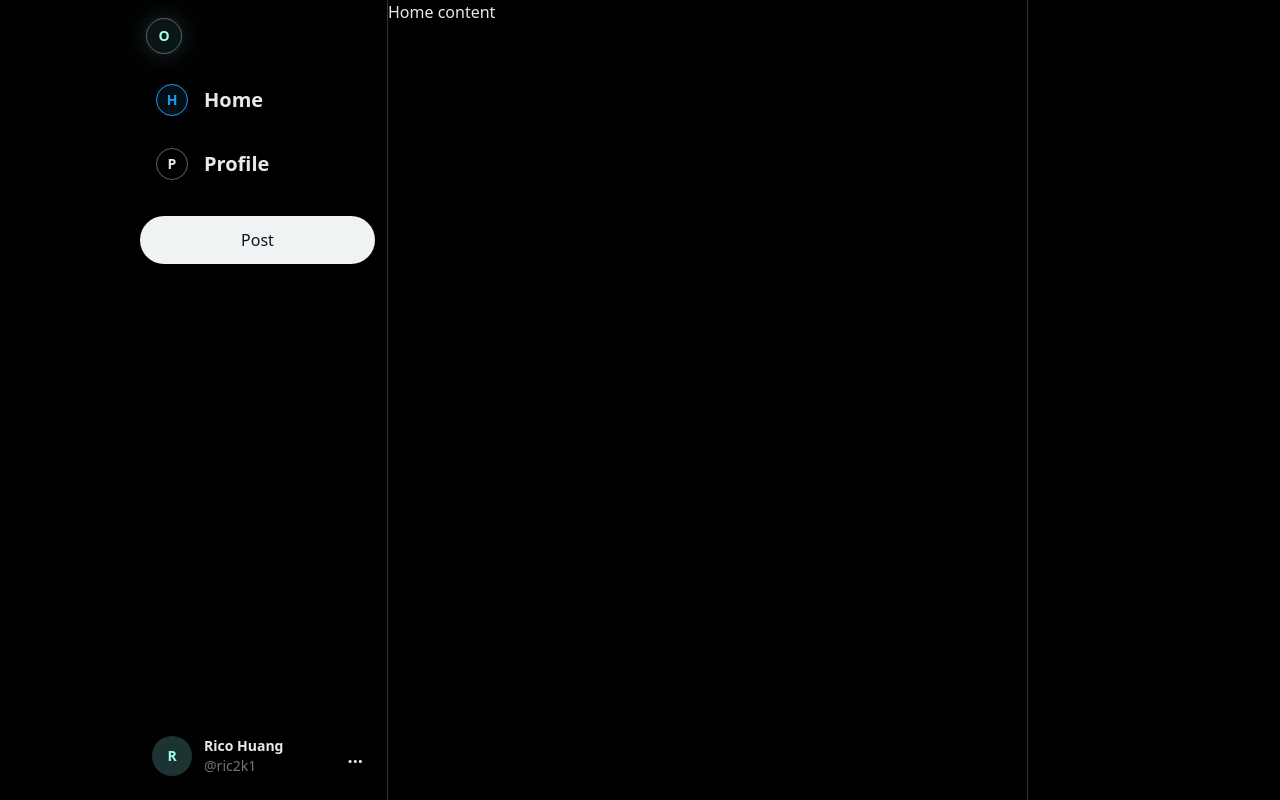
Test: Phase 4 post composer UI › loads a selected draft into the modal composer
The image size is (1280, 800).
Click the button "Post" at [258, 240], box x1=140 y1=216 x2=375 y2=264
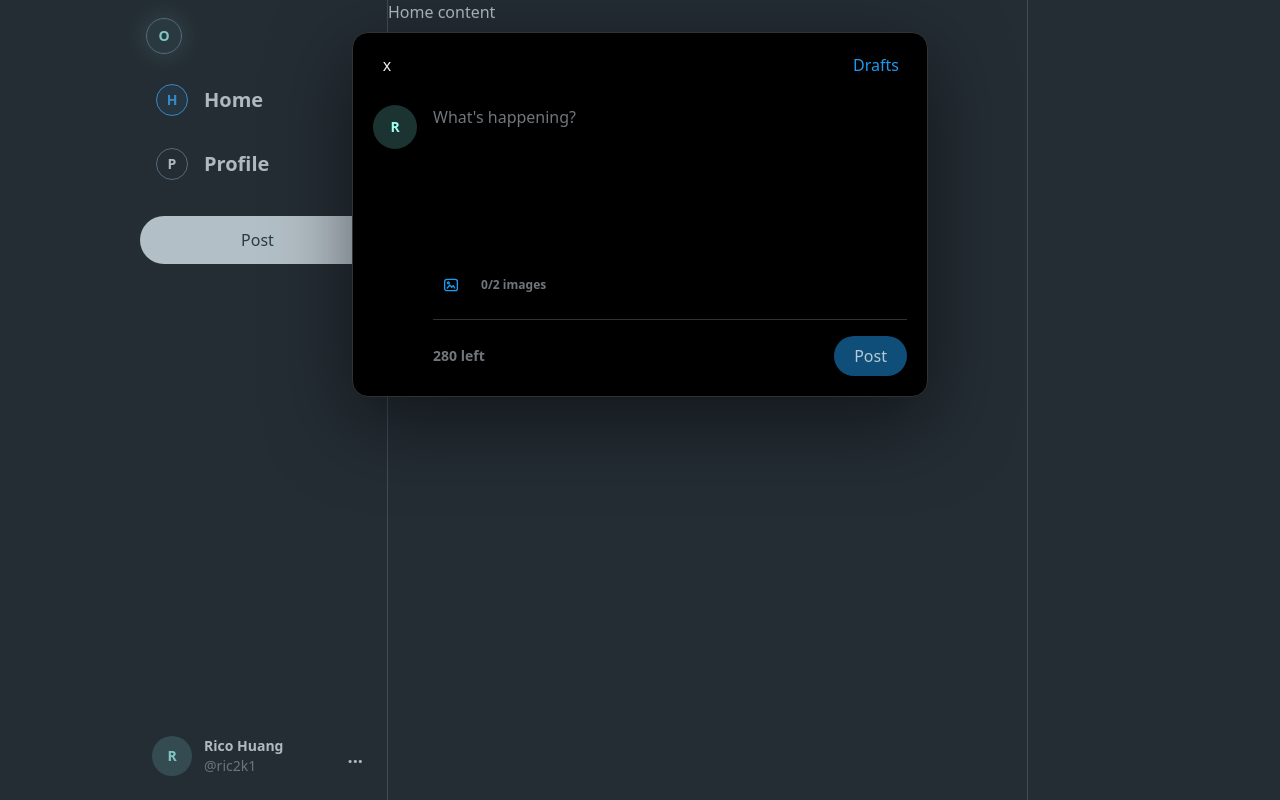
Click the button "Drafts" at [876, 65], box x1=841 y1=45 x2=911 y2=85
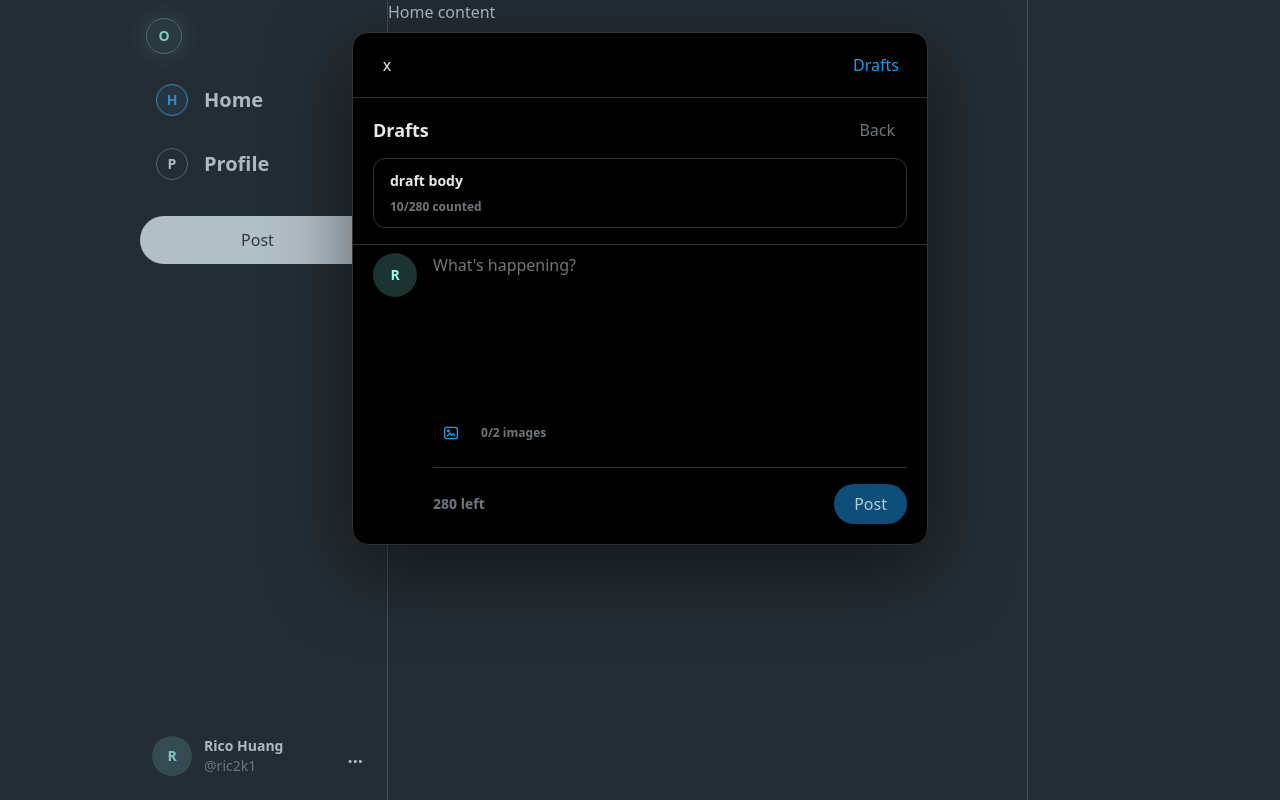
expect the button "draft body 10/280 counted" is shown: met
Click the button "draft body 10/280 counted" at [426, 180], box x1=373 y1=158 x2=907 y2=228
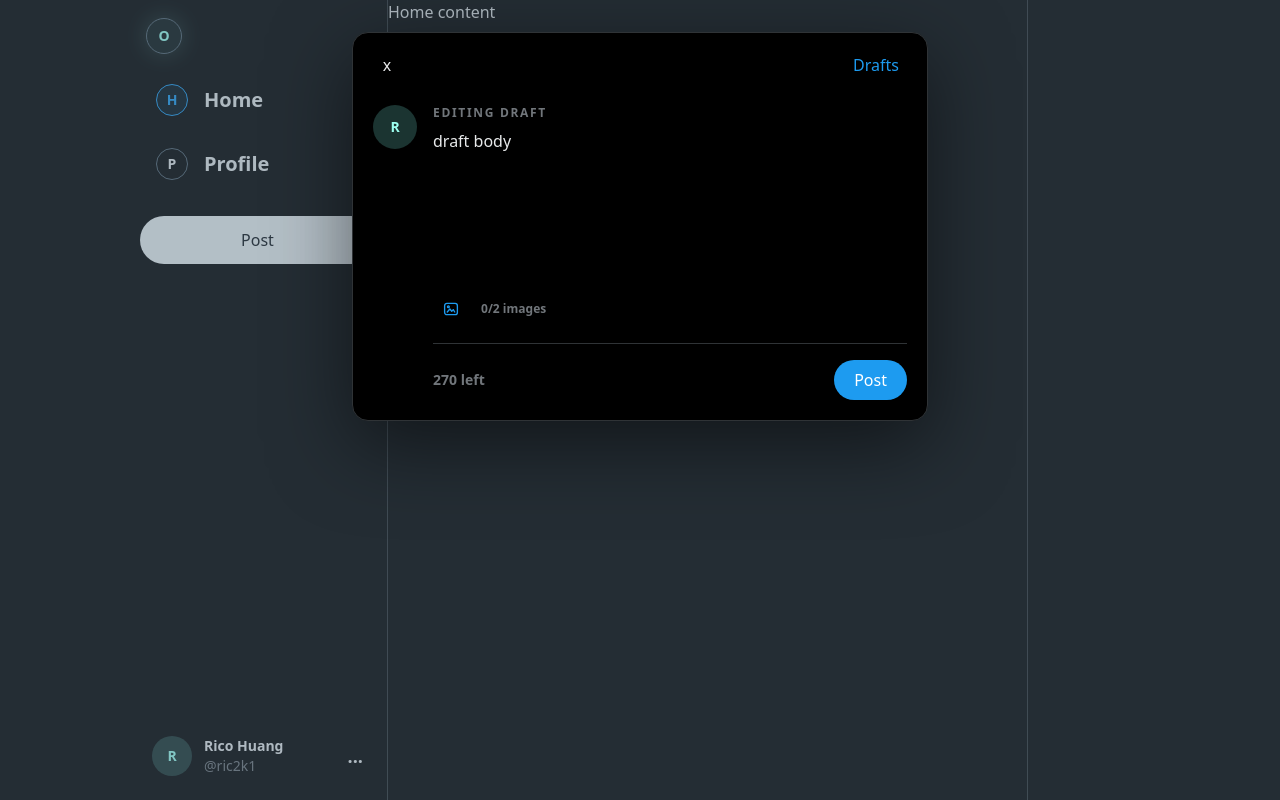
expect the text box named "Post text" holds "draft body": met, box x1=433 y1=129 x2=907 y2=273
expect the text "Editing draft" is shown: met, box x1=433 y1=104 x2=547 y2=121
